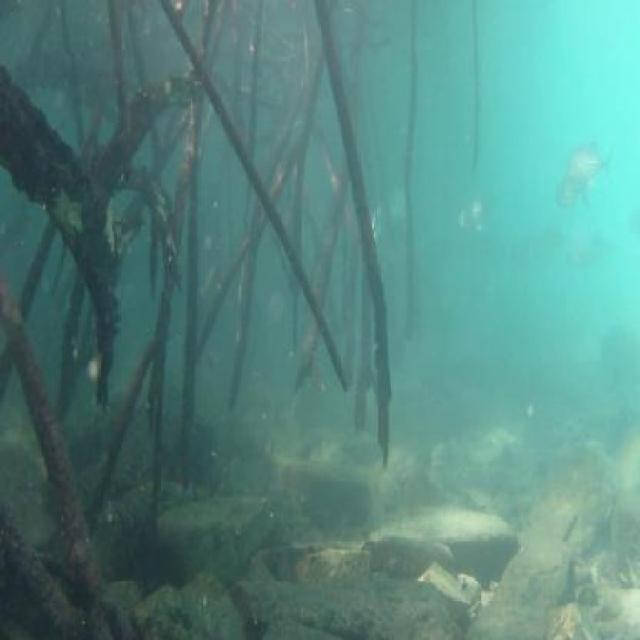Caranx_sexfasciatus_juvenile: (555, 171, 596, 226), (463, 190, 502, 247), (570, 150, 619, 195)
